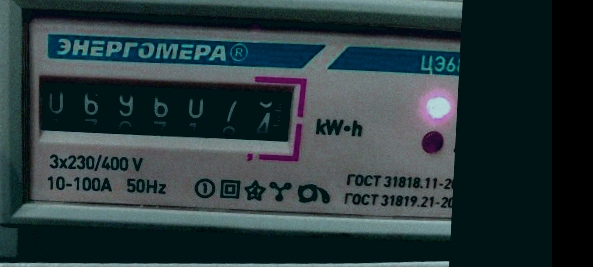0: (44, 84, 66, 115), (185, 89, 206, 119)
4: (252, 108, 272, 137)
6: (78, 85, 102, 116), (150, 89, 171, 118)
7: (220, 91, 239, 122)
9: (115, 88, 135, 118)
screen: (19, 56, 308, 161)
